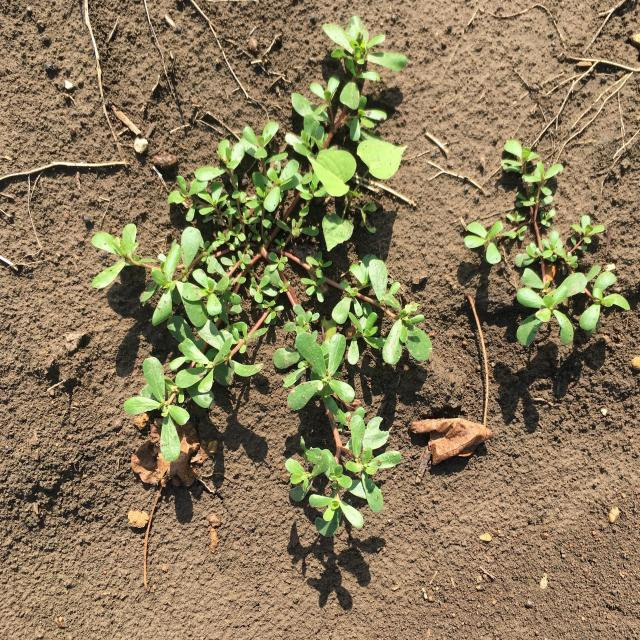Purslane: (92, 16, 433, 537), (464, 140, 630, 346)
